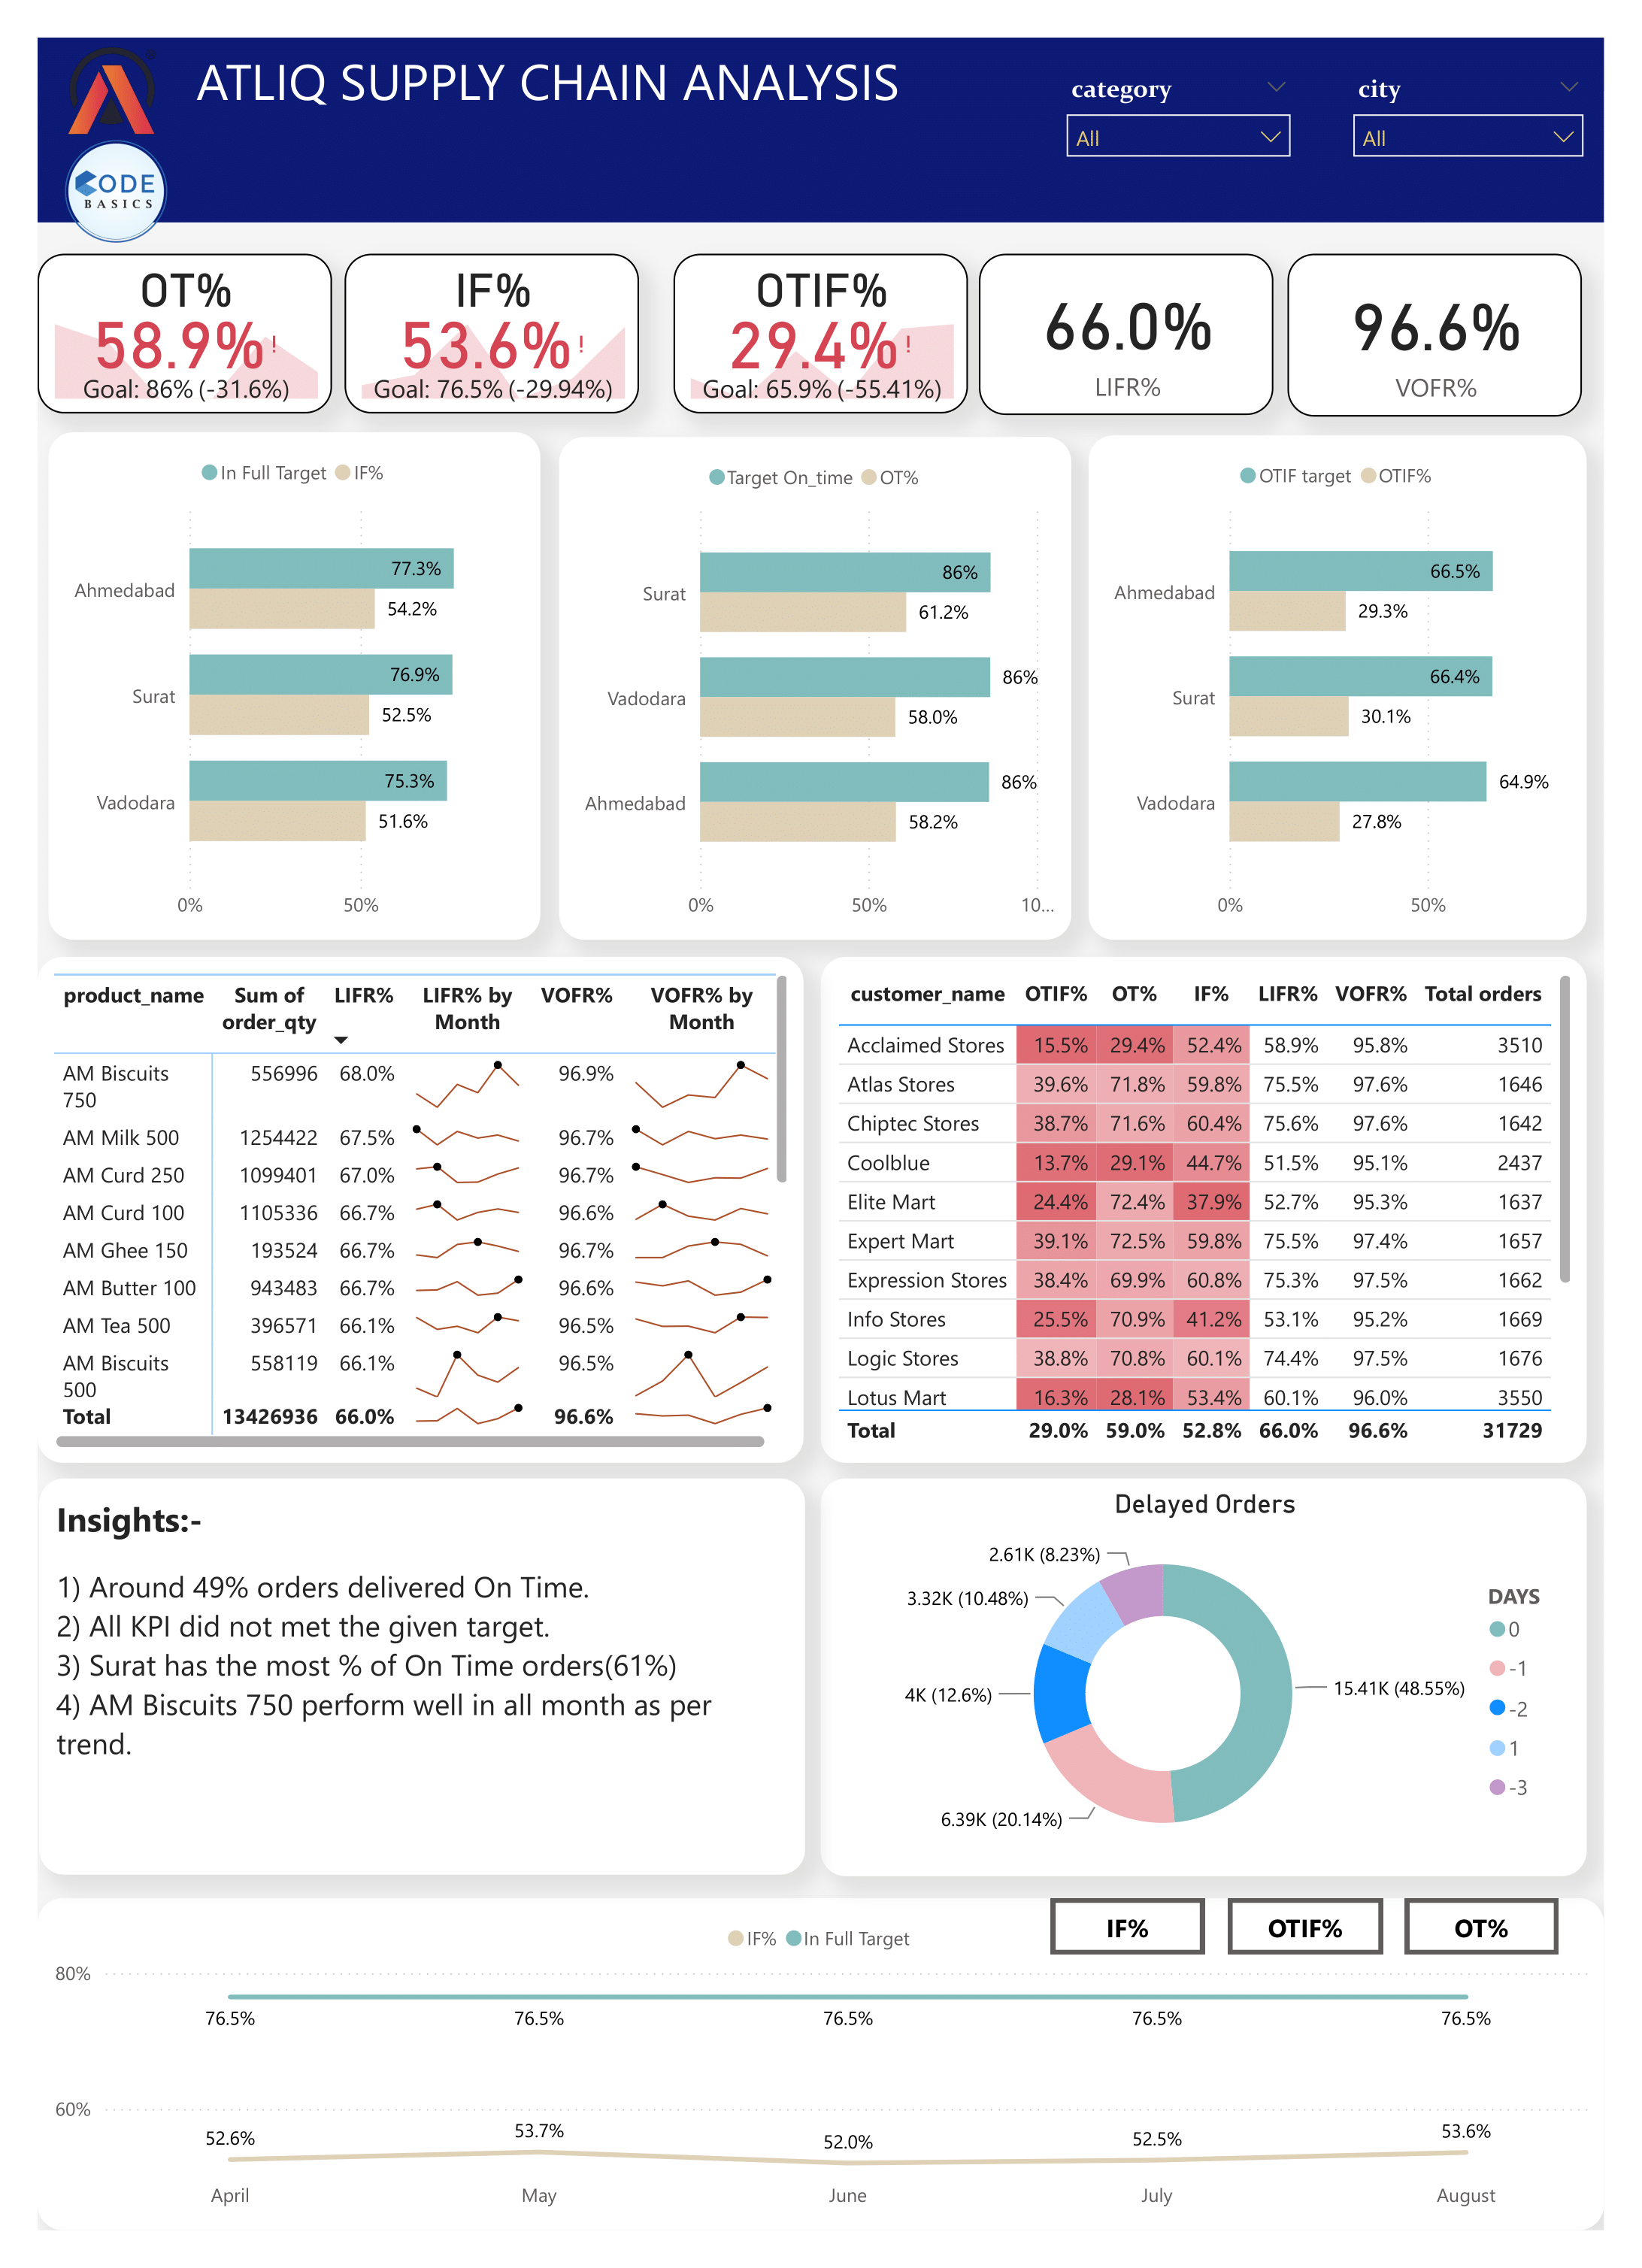

What the dashboard file says about the page in this screenshot:
{"tool":"powerbi","page":{"name":"Dashboard","canvas":[1000,1400],"ordinal":0},"visuals":[{"type":"textbox","box":[0,0,1000,118],"z":0},{"type":"kpi","title":"OT%","fields":{"Indicator":["measures (2).OT%"],"TrendLine":["dim_date.mmm_yy"],"Goal":["measures (2).Target On_time"]},"box":[0,137.8,188.1,102.4],"z":1000},{"type":"kpi","title":"IF%","fields":{"TrendLine":["dim_date.mmm_yy"],"Indicator":["measures (2).IF%"],"Goal":["measures (2).In Full Target"]},"box":[195.6,137.8,188.1,102.4],"z":2000},{"type":"kpi","title":"OTIF%","fields":{"TrendLine":["dim_date.mmm_yy"],"Goal":["measures (2).OTIF target"],"Indicator":["measures (2).OTIF%"]},"box":[406,137.8,188.1,102.4],"z":3000},{"type":"card","fields":{"Values":["measures (2).LIFR%"]},"box":[601,138,188,103],"z":4000},{"type":"card","fields":{"Values":["measures (2).VOFR%"]},"box":[798,138,188,104],"z":5000},{"type":"clusteredBarChart","fields":{"Y":["measures (2).In Full Target","measures (2).IF%"],"Category":["dim_customers.city"]},"box":[7,252,314,324],"z":6000},{"type":"clusteredBarChart","fields":{"Y":["measures (2).Target On_time","measures (2).OT%"],"Category":["dim_customers.city"]},"box":[333,255,327,321],"z":7000},{"type":"clusteredBarChart","fields":{"Category":["dim_customers.city"],"Y":["measures (2).OTIF target","measures (2).OTIF%"]},"box":[671,254,318,322],"z":8000},{"type":"tableEx","fields":{"Values":["dim_customers.customer_name","measures (2).OTIF%","measures (2).OT%","measures (2).IF%","measures (2).LIFR%","measures (2).VOFR%","measures (2).Total orders"]},"box":[500,587,489,323],"z":9000},{"type":"pivotTable","fields":{"Rows":["dim_products.product_name"],"Values":["Sum(fact_order_lines.order_qty)","measures (2).LIFR%","SparklineData(measures (2).LIFR%_[fact_order_lines.order_placement_date.Variation.Date Hierarchy.Month])","measures (2).VOFR%","SparklineData(measures (2).VOFR%_[fact_order_lines.order_placement_date.Variation.Date Hierarchy.Month])"]},"box":[0,586.7,488.9,323.2],"z":10000},{"type":"lineChart","title":"IF% Trend","fields":{"Category":["dim_date.date.Variation.Date Hierarchy.Month"],"Y":["measures (2).IF%","measures (2).In Full Target"]},"box":[0,1187.9,999.7,212],"z":12000},{"type":"actionButton","box":[647,1188,98,36],"z":14000},{"type":"actionButton","box":[760,1188,99,36],"z":15000},{"type":"actionButton","box":[873,1188,98,36],"z":16000},{"type":"donutChart","title":"Delayed Orders","fields":{"Category":["fact_order_lines.DAYS"],"Y":["Count(fact_order_lines.order_id)"]},"box":[500,920,489,254],"z":17000},{"type":"textbox","box":[0.9,920.1,488.9,253.3],"z":18000},{"type":"image","box":[7,58,86,80],"z":19000},{"type":"image","box":[0,0,96,67],"z":20000},{"type":"slicer","fields":{"Values":["dim_products.category"]},"box":[647,18,163,67],"z":21000},{"type":"slicer","fields":{"Values":["dim_customers.city"]},"box":[830,18,167,80],"z":23000}]}

Visuals, with their boxes in screenshot pixels (x1, y1, x2, y2):
textbox: [38, 38, 1604, 223]
"OT%" kpi: [38, 253, 332, 413]
"IF%" kpi: [344, 253, 639, 413]
"OTIF%" kpi: [674, 253, 968, 413]
card - measures (2).LIFR%: [979, 254, 1274, 415]
card - measures (2).VOFR%: [1288, 254, 1583, 416]
clusteredBarChart - measures (2).In Full Target x measures (2).IF%: [49, 432, 541, 940]
clusteredBarChart - measures (2).Target On_time x measures (2).OT%: [559, 437, 1071, 940]
clusteredBarChart - dim_customers.city x measures (2).OTIF target: [1089, 435, 1587, 940]
tableEx - dim_customers.customer_name x measures (2).OTIF%: [821, 957, 1587, 1463]
pivotTable - dim_products.product_name x Sum(fact_order_lines.order_qty): [38, 956, 804, 1463]
"IF% Trend" lineChart: [38, 1898, 1604, 2230]
actionButton: [1051, 1898, 1205, 1955]
actionButton: [1228, 1898, 1383, 1955]
actionButton: [1405, 1898, 1559, 1955]
"Delayed Orders" donutChart: [821, 1479, 1587, 1876]
textbox: [39, 1479, 805, 1876]
image: [49, 129, 183, 254]
image: [38, 38, 188, 143]
slicer - dim_products.category: [1051, 66, 1307, 171]
slicer - dim_customers.city: [1338, 66, 1600, 191]
